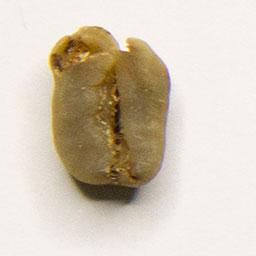defect: (46, 20, 174, 195)
